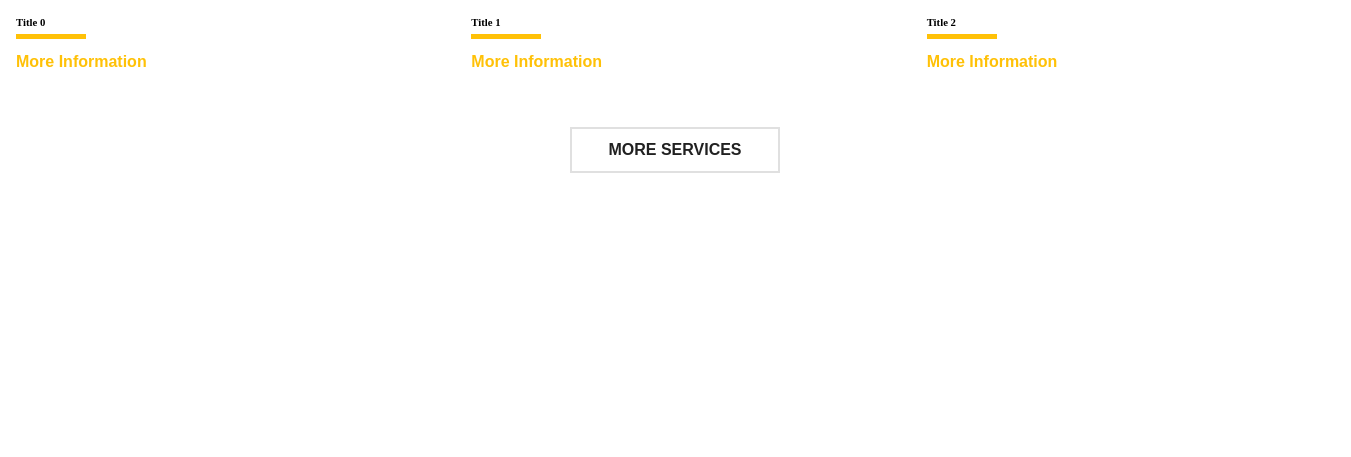
With 4 items › Should render all items when the button is clicked
Click the button "More Services" at point(675, 150), box [570,127,780,173]
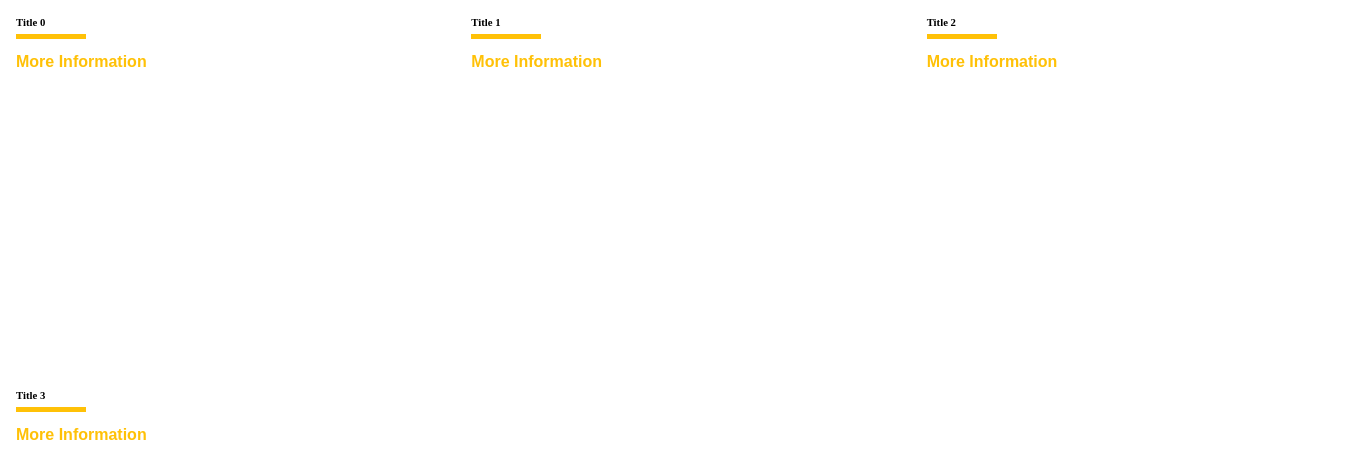
Expected: the number of headings is 4, [16,16,423,37]; [471,16,879,37]; [927,16,1334,37]; [16,389,423,410]
